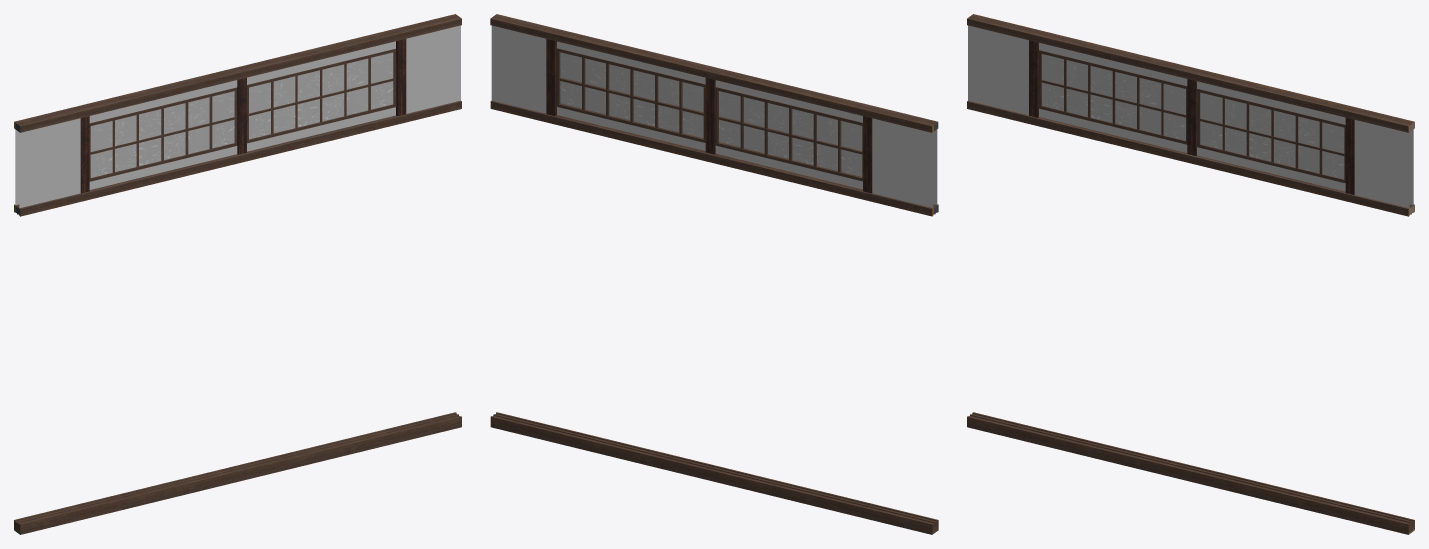
File: jov_inwall_ranma_1.5t02.fbx
The picture shows the model from 3 angles, left to right: view 1: azimuth 30°, elevation 25°; view 2: azimuth 150°, elevation 25°; view 3: azimuth 330°, elevation 25°; orthographic projection.
Parts seen in each view (by area): view 1: jov_inwall_ranma_1.5t02; view 2: jov_inwall_ranma_1.5t02; view 3: jov_inwall_ranma_1.5t02.
Boxes of the visible parts, x1,y1,x2,y2 form: jov_inwall_ranma_1.5t02: (14,14,461,534); jov_inwall_ranma_1.5t02: (490,14,938,534); jov_inwall_ranma_1.5t02: (967,14,1414,534).
Bounding box in the file's own units: 330 × 292 × 8.22.
